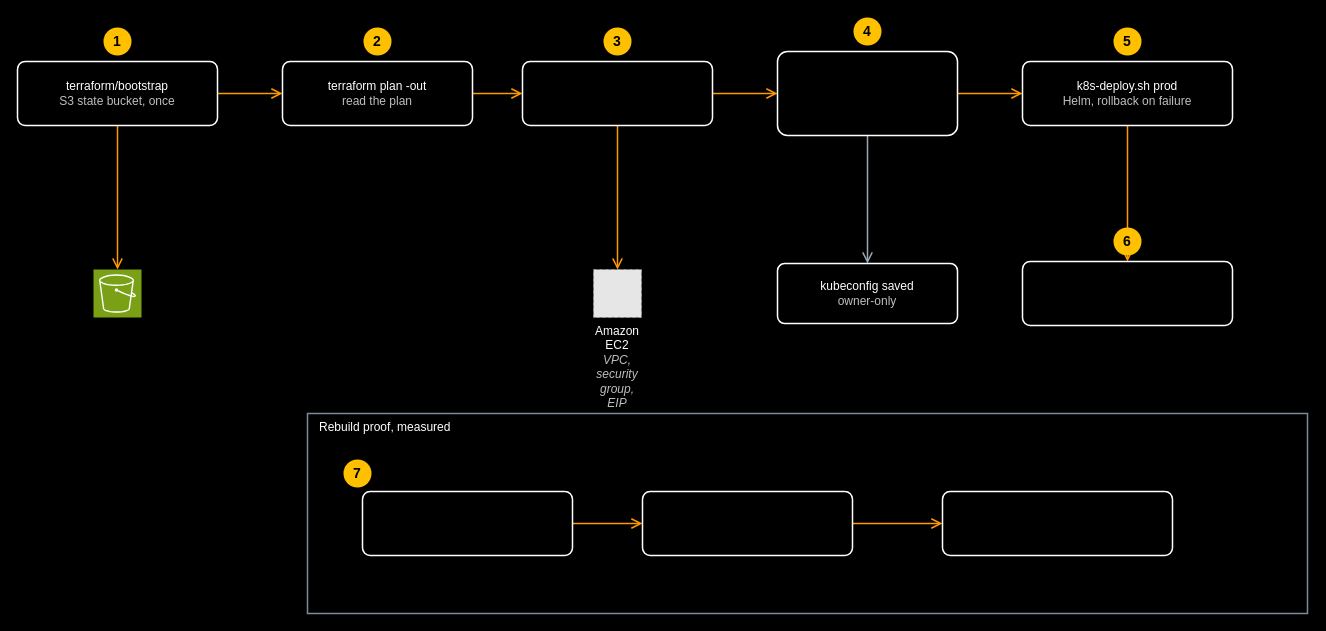
The diagram is 1326 pixels wide and 631 high, and some of its shapes have lost their labels. Grey dashed boxes stand in for pictures. Each missing label, with the centre of its shape:
"Amazon S3 versioned, encrypted state" goes at (x=117, y=293).
"Ansible, Helm, smoke shop back at +248 s" goes at (x=1057, y=523).
"ansible-playbook common, hardening, docker, k3s" goes at (x=867, y=93).
"Apply 10 added, new address" goes at (x=747, y=523).
"Destroy 10 destroyed, 0 instances" goes at (x=467, y=523).
"smoke-test.sh 3 of 3 on the new address" goes at (x=1127, y=293).
"terraform apply tfplan 10 resources" goes at (x=617, y=93).
